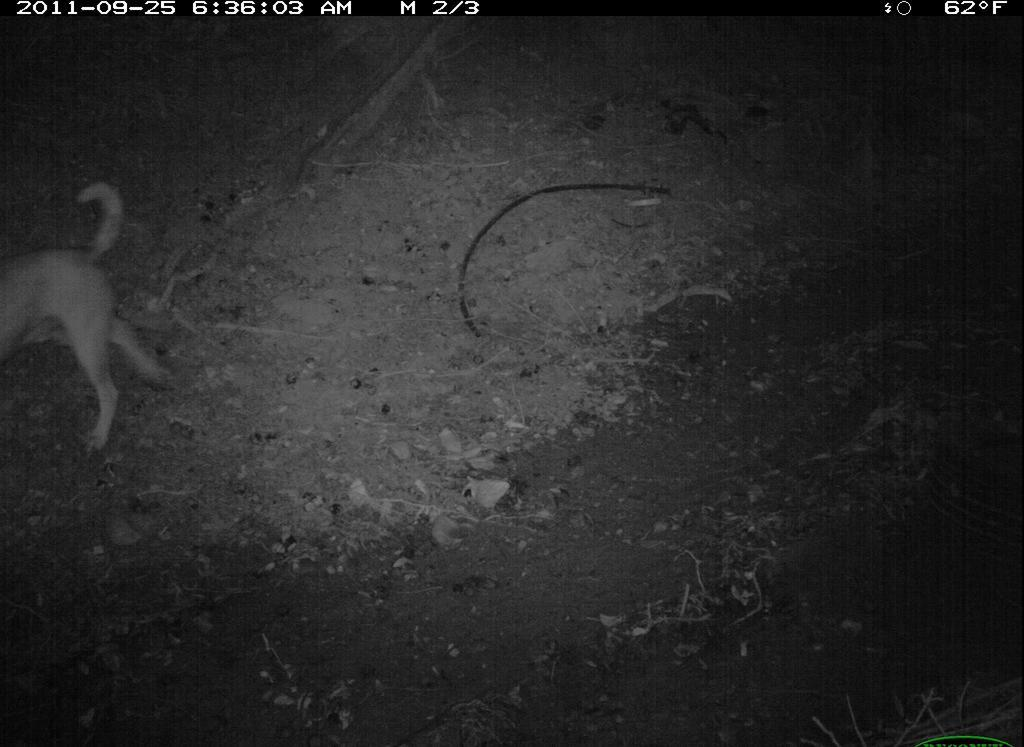dog: (6, 176, 175, 479)
